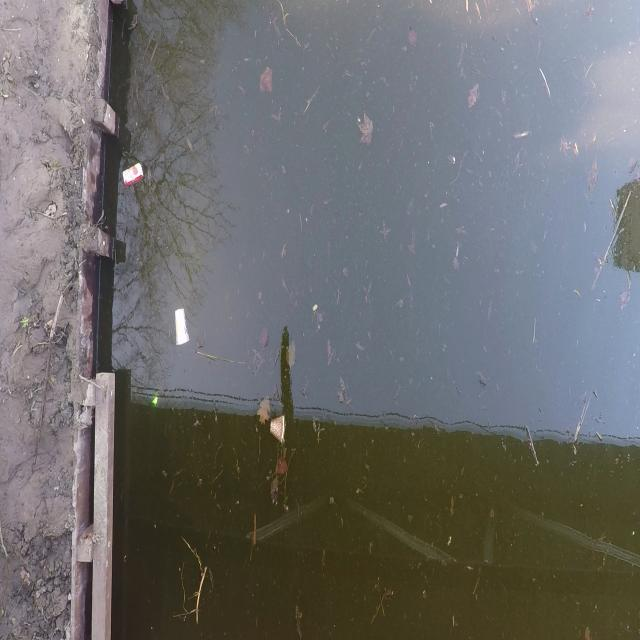Non plastique: (169, 299, 194, 354), (267, 405, 288, 456), (118, 157, 147, 192)
